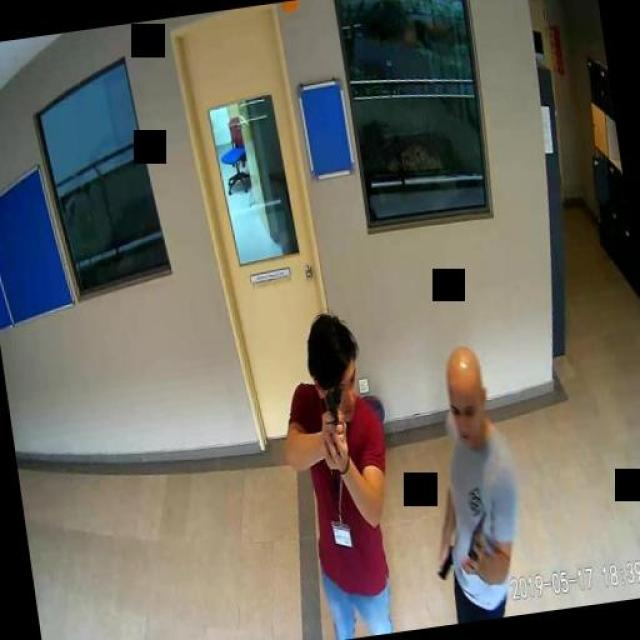gun: (323, 385, 348, 447)
